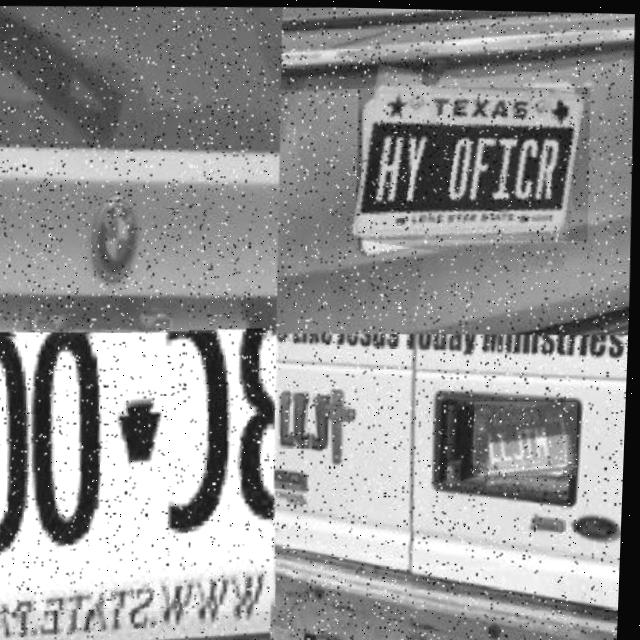LicensePlate: (0, 324, 286, 615), (357, 85, 590, 238), (478, 400, 579, 473)
